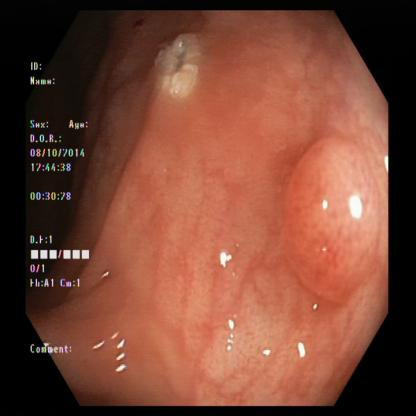Labels: (25, 59, 99, 359)
Polyps: (285, 124, 379, 288)
